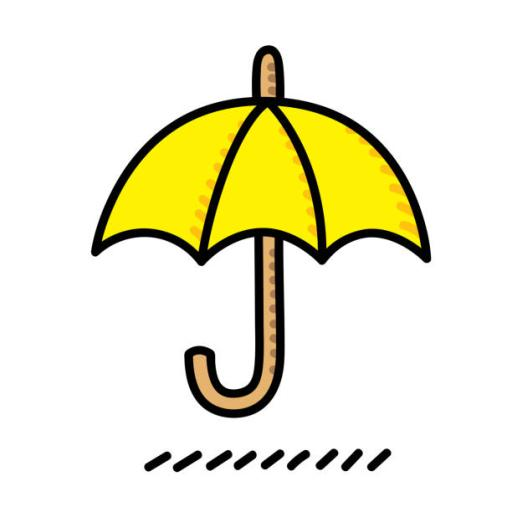guarda_chuva: (90, 43, 432, 417)
